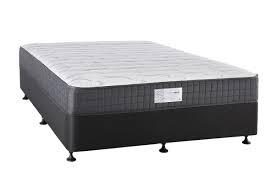bed-matress: (18, 40, 259, 115)
